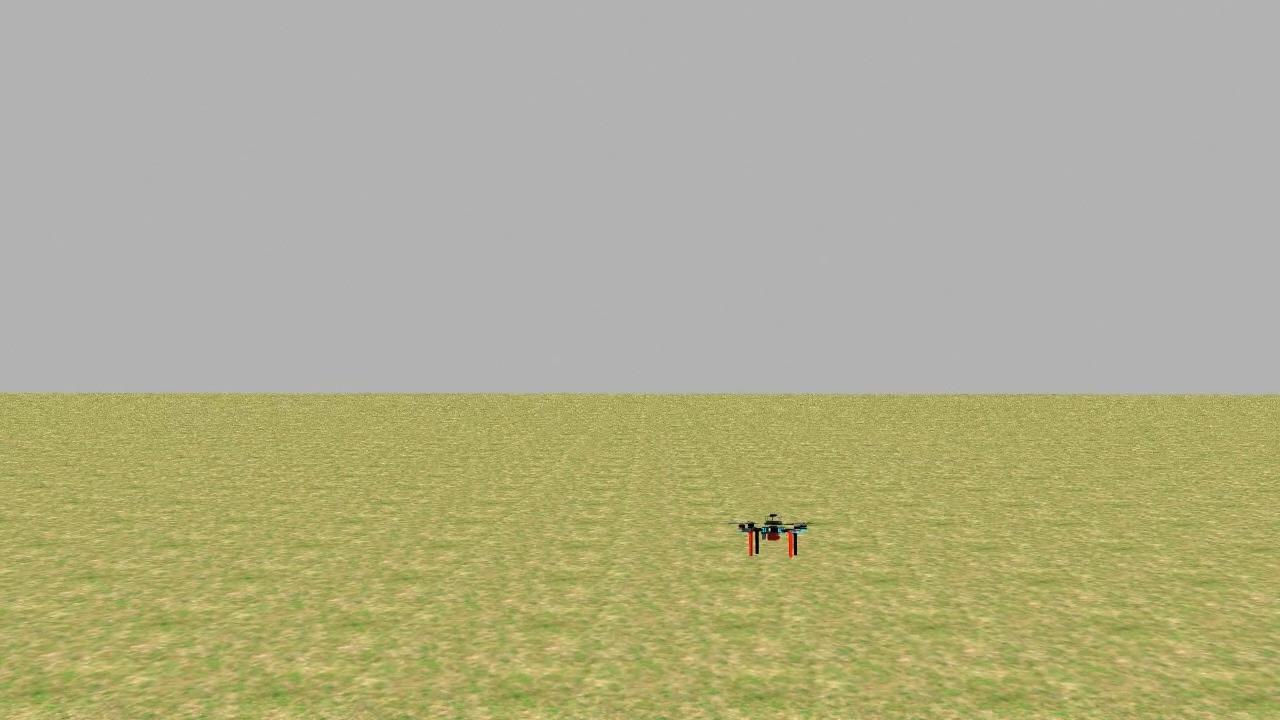UAV: (720, 496, 828, 570)
